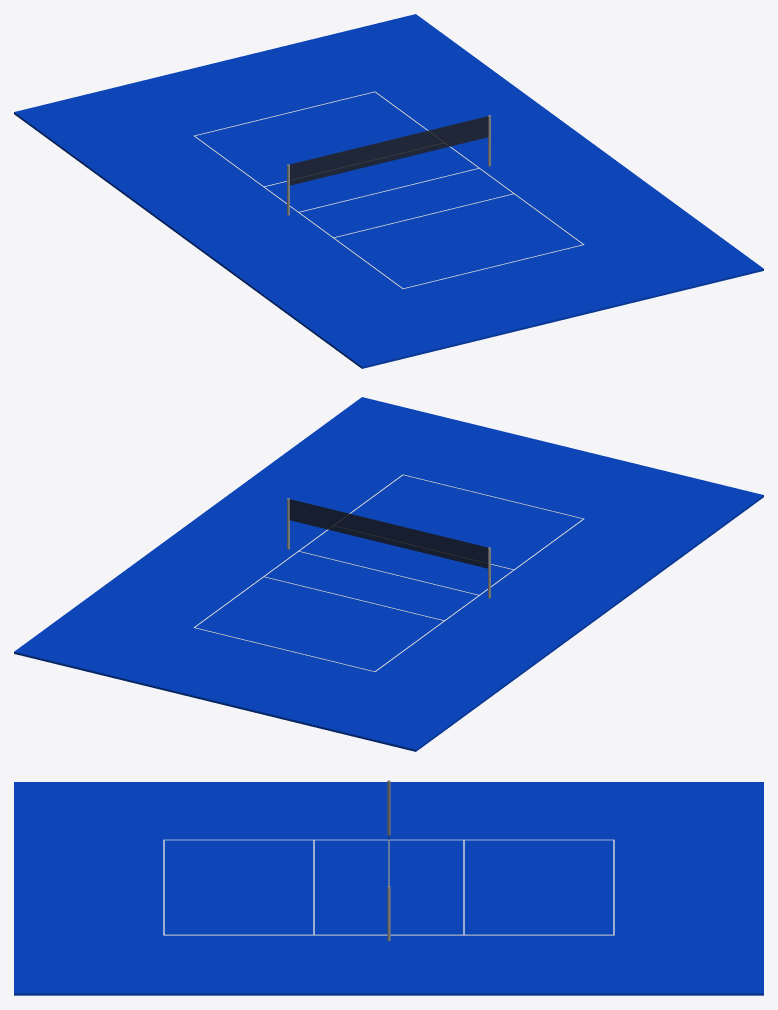
File: quadra_volei.glb
3 views of the same model, one above another, from view 1: azimuth 30°, elevation 25°; view 2: azimuth 150°, elevation 25°; view 3: azimuth 270°, elevation 25° (orthographic). The views are drawn at different scales.
Bounding box in the file's own units: 20 × 2.48 × 30.
